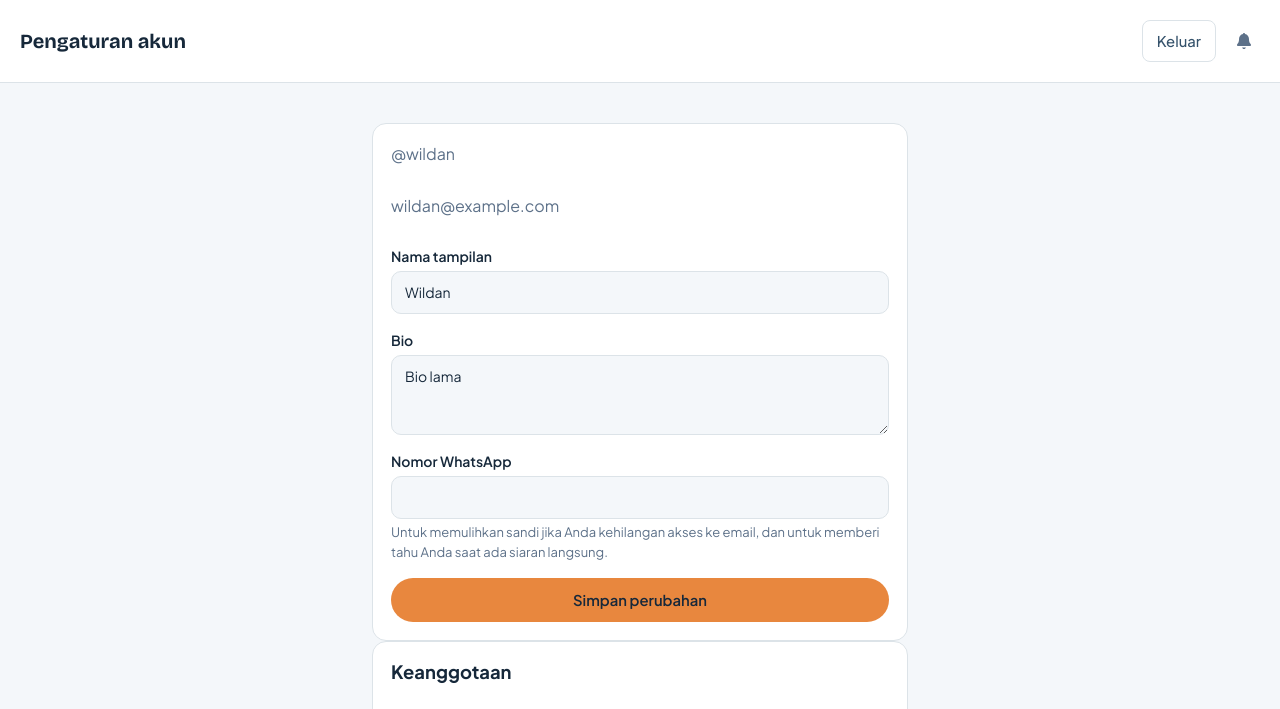
Test: SettingsPage › updates the display name and shows a confirmation
Replace the text in the field labelled "Nama tampilan" with "Wildan Anugrah". click: (640, 293)
box: [391,271,889,314]
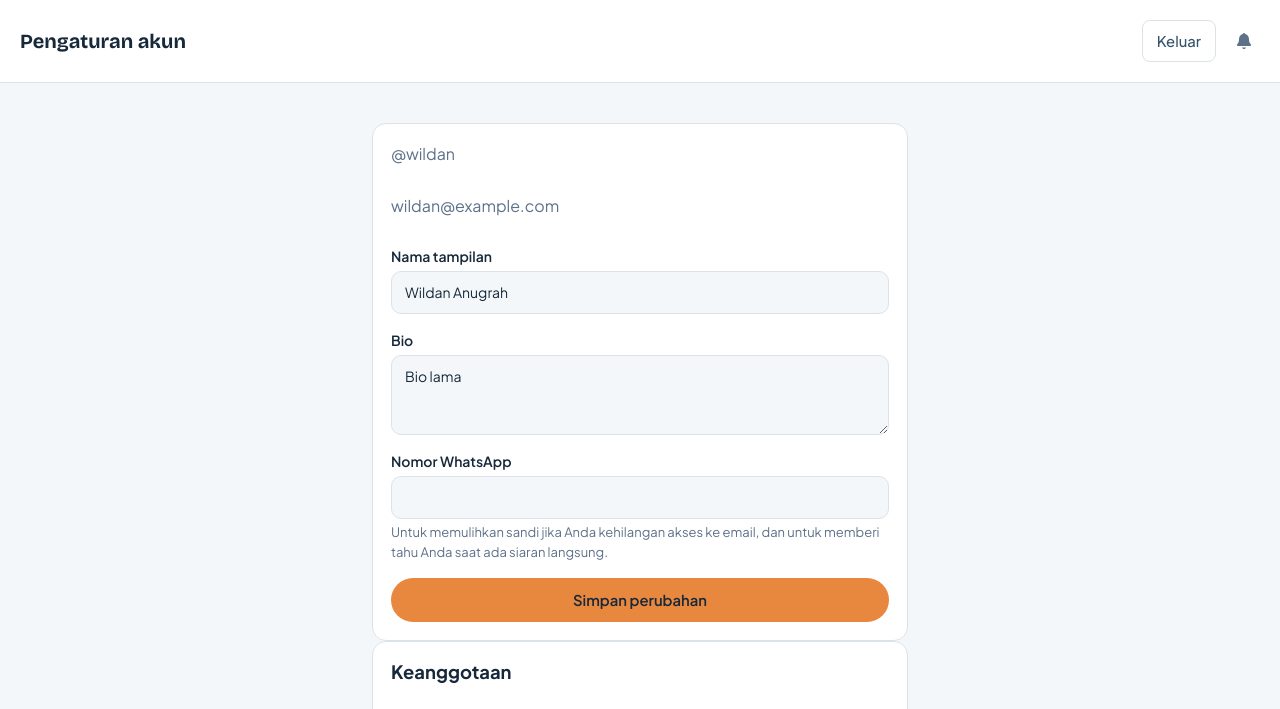
Click the button "Simpan perubahan". click: (640, 600)
box: [391,578,889,622]
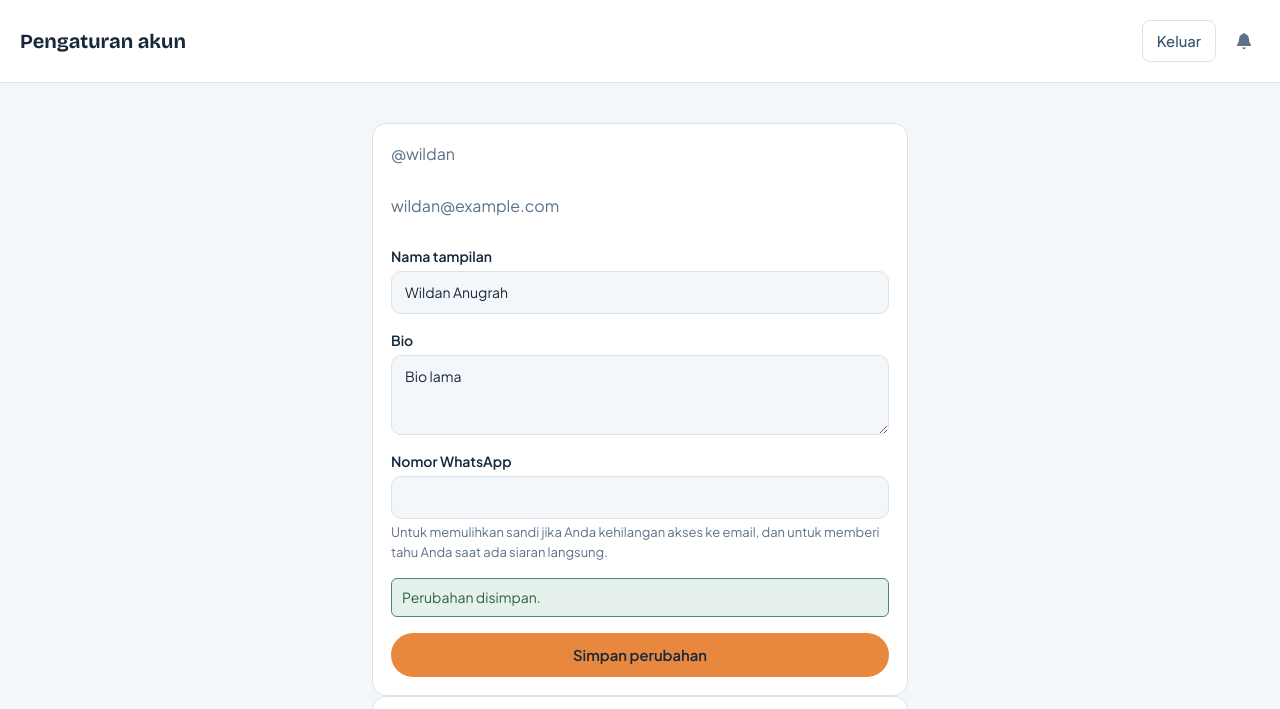
expect the text "Perubahan disimpan." is shown: met, box [391,578,889,617]
